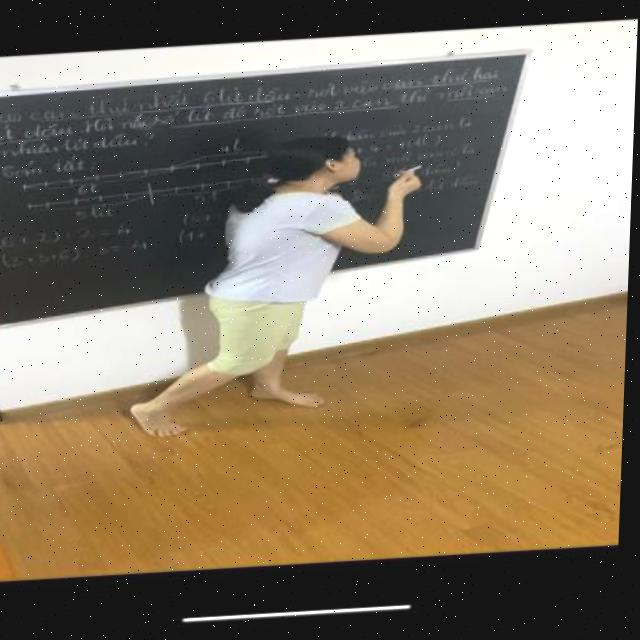cigarette: (393, 171, 425, 182)
